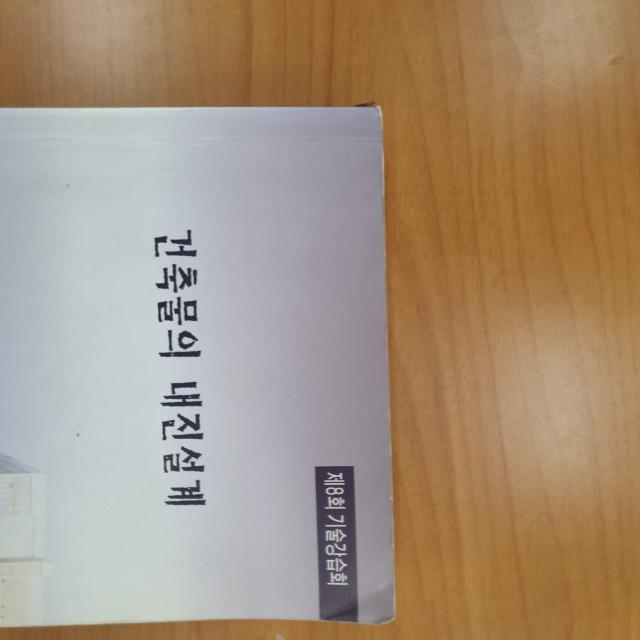Ripped: (330, 94, 388, 128)
Wornout: (375, 375, 397, 554), (375, 154, 392, 365)
